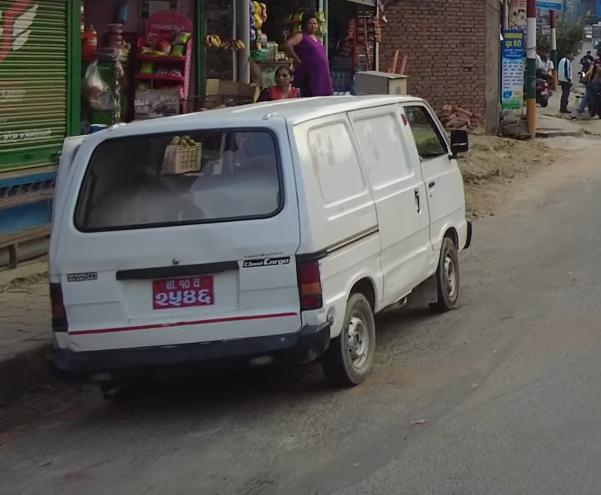van: (38, 93, 497, 399)
